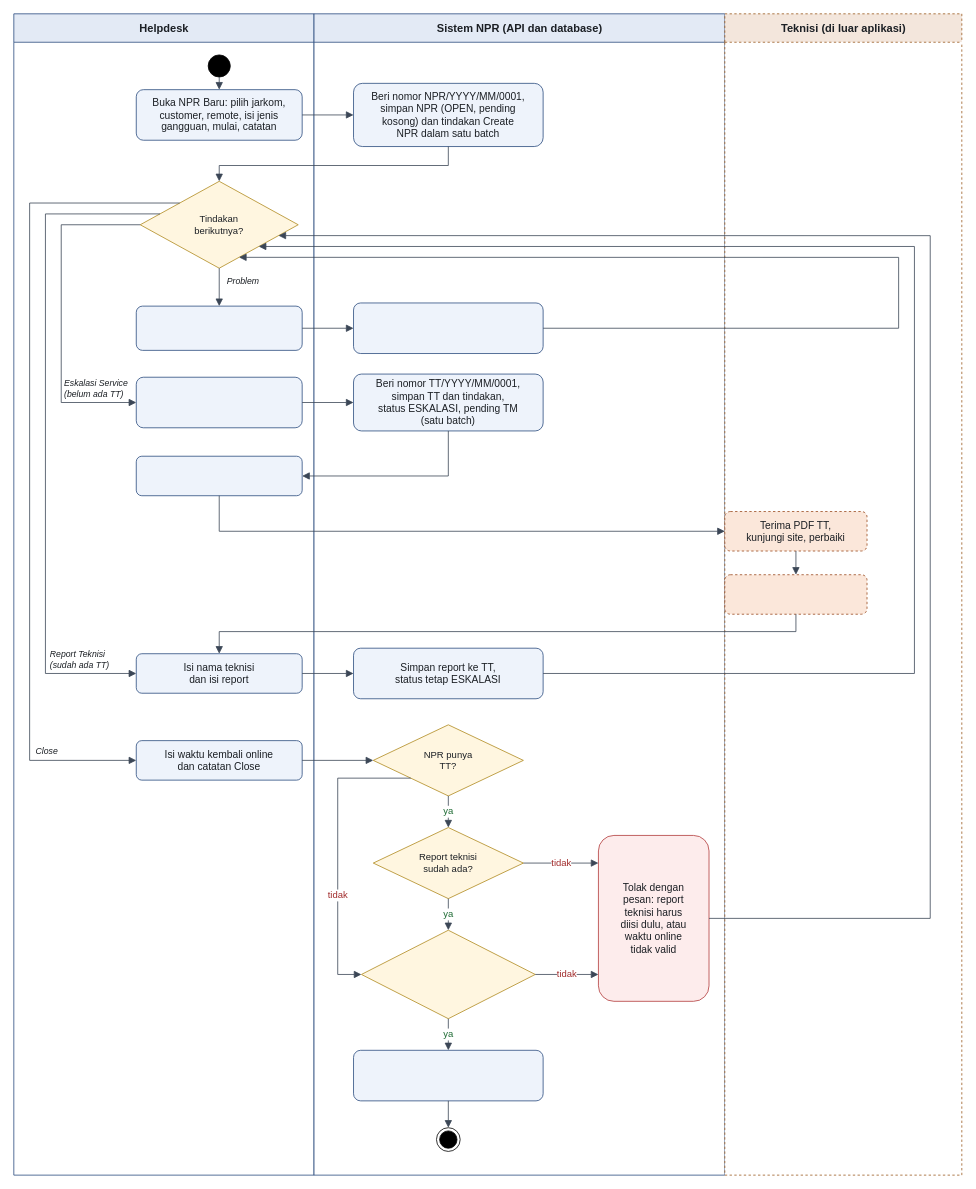
The diagram is 976 pixels wide and 1189 high, and some of its shapes have lost their labels. The centre of each missing label's shape, as x and y in pixels:
Laporkan hasil ke helpdesk: the point at 795,594
Pilih instruksi Maintenance atau Preventive Maintenance, isi catatan NOC: the point at 218,402
Pilih Pending TM atau Pending Customer, isi catatan: the point at 218,327
Simpan Problem: status PENDING, atau tetap ESKALASI bila ada TT: the point at 448,328
Simpan tindakan Close, status CLOSED, online_at dan closed_at (satu batch): the point at 448,1075
Unduh PDF TT, kirim ke teknisi: the point at 218,475
Waktu online di antara mulai gangguan dan waktu Close?: the point at 448,974
